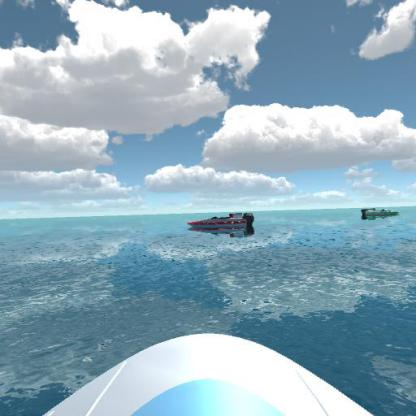usv0: (360, 204, 402, 223)
usv3: (183, 206, 262, 240)
